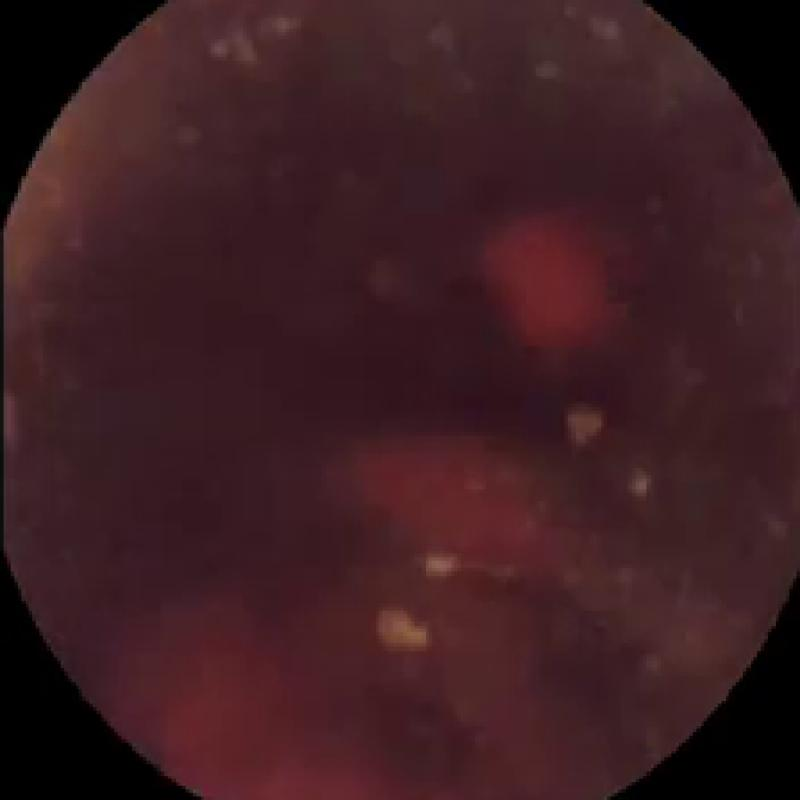bleeding: (151, 627, 399, 800), (351, 421, 566, 575), (489, 222, 618, 346)
